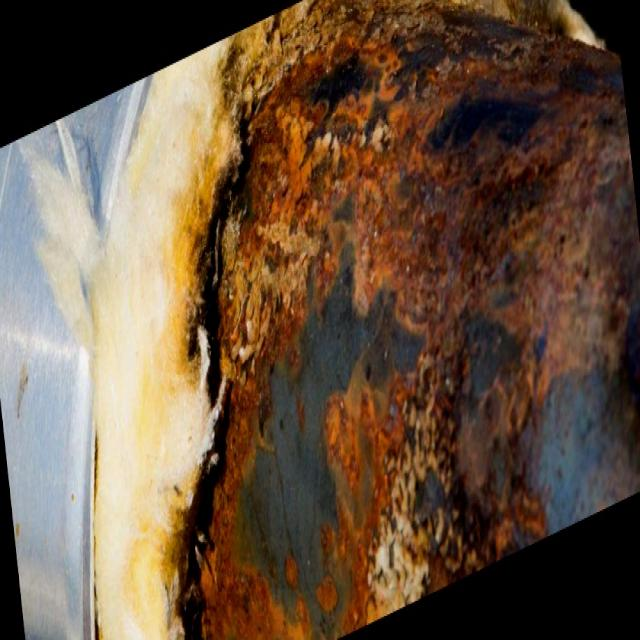Leak: (145, 0, 639, 638)
